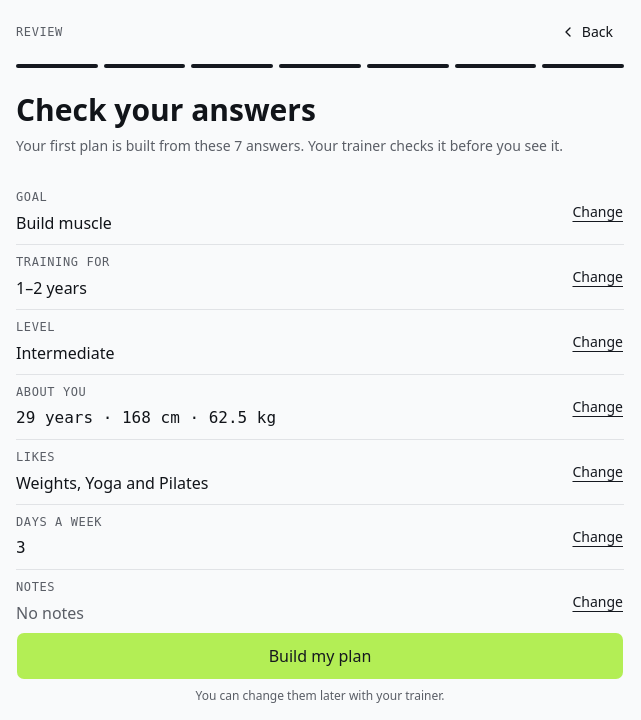
Scenario: ReviewPage › opens step 7 with Back
Click the button "Back": (587, 32) [551,8,624,56]
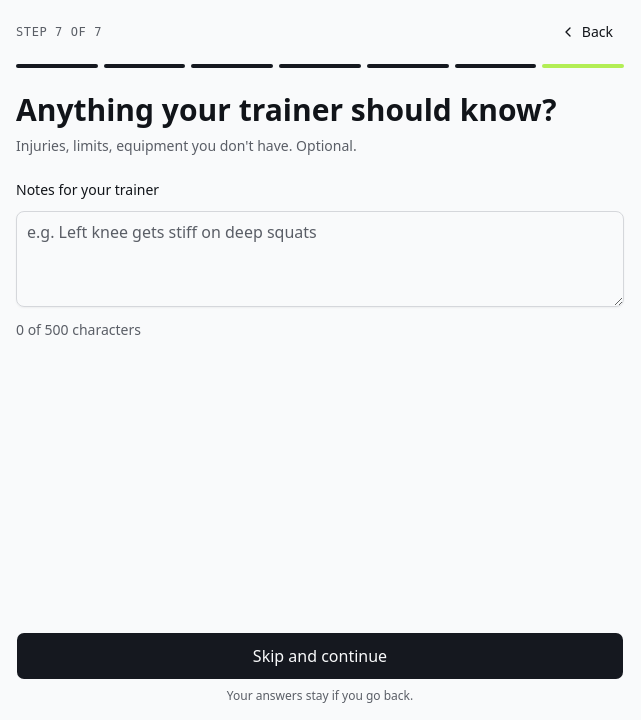
Now the heading "Anything your trainer should know?" is shown, box [16,92,624,128]
